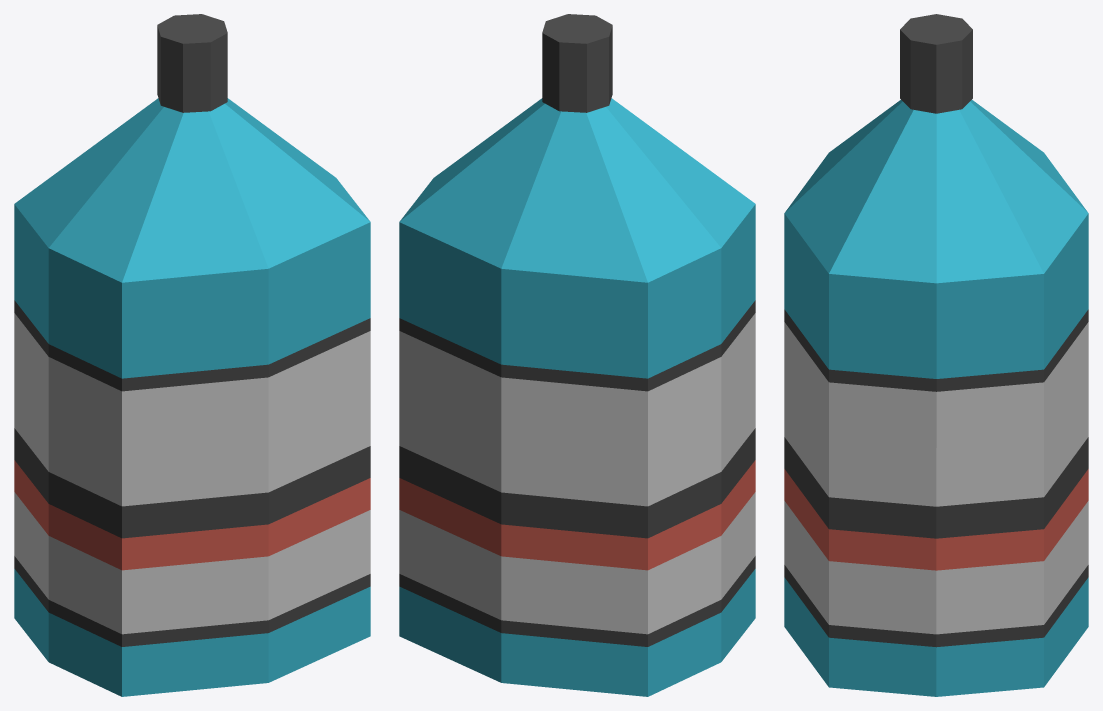
The model's file is Cleaning Product Tub 1.fbx.
3 views of the same model, side by side, from view 1: azimuth 30°, elevation 25°; view 2: azimuth 150°, elevation 25°; view 3: azimuth 270°, elevation 25° (orthographic).
Parts seen in each view (by area): view 1: Cleaning Product Tub 1, Lid; view 2: Cleaning Product Tub 1, Lid; view 3: Cleaning Product Tub 1, Lid.
Part boxes in pixels (x1=…): Cleaning Product Tub 1: x1=14, y1=98, x2=370, y2=696; Lid: x1=157, y1=14, x2=227, y2=112; Cleaning Product Tub 1: x1=399, y1=98, x2=755, y2=696; Lid: x1=542, y1=14, x2=612, y2=112; Cleaning Product Tub 1: x1=784, y1=100, x2=1088, y2=696; Lid: x1=900, y1=14, x2=972, y2=113.
Size of the model in its own units: 131 by 260 by 120.
